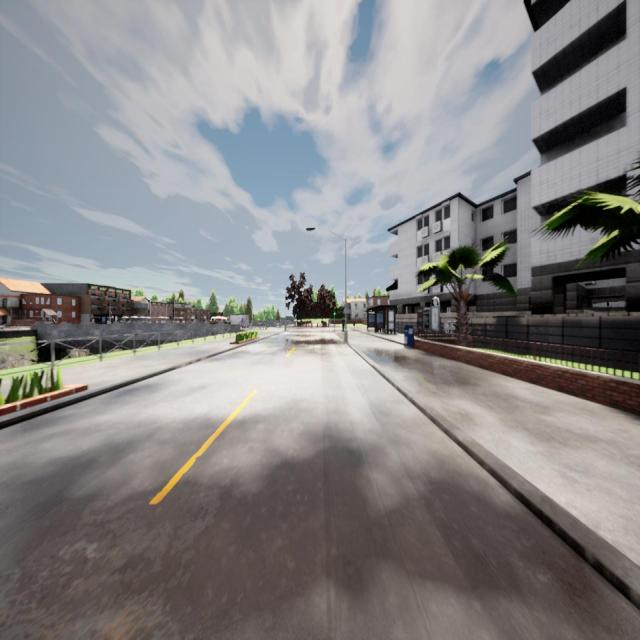Pedestrian: (342, 316, 344, 332)
Vehicle: (210, 316, 232, 324)
traffic_light: (333, 310, 336, 316)
